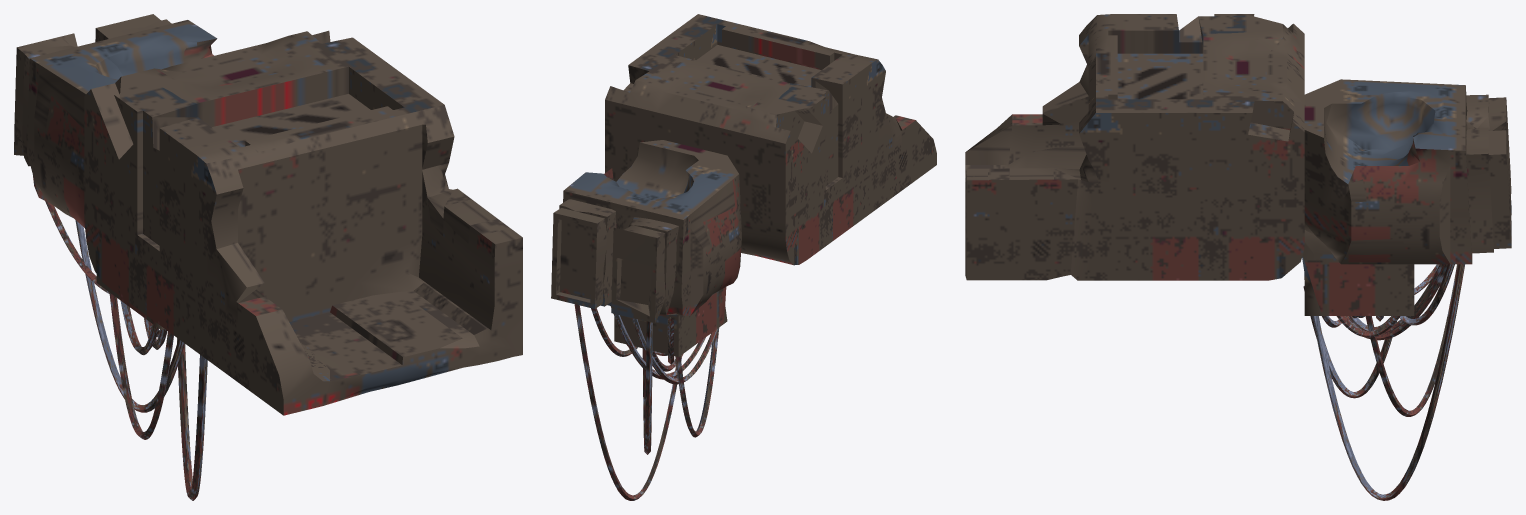
The model's file is SM_Debris_02.fbx.
The picture shows the model from 3 angles, left to right: view 1: azimuth 30°, elevation 25°; view 2: azimuth 150°, elevation 25°; view 3: azimuth 270°, elevation 25°; orthographic projection. The views are drawn at different scales.
Visible parts, largest first — view 1: Retopo_Cube; view 2: Retopo_Cube; view 3: Retopo_Cube.
Part boxes in pixels (<box>): Retopo_Cube: <box>14,14,522,500</box>; Retopo_Cube: <box>551,14,936,500</box>; Retopo_Cube: <box>965,14,1511,500</box>.
Bounding box in the file's own units: 275 × 544 × 637.
